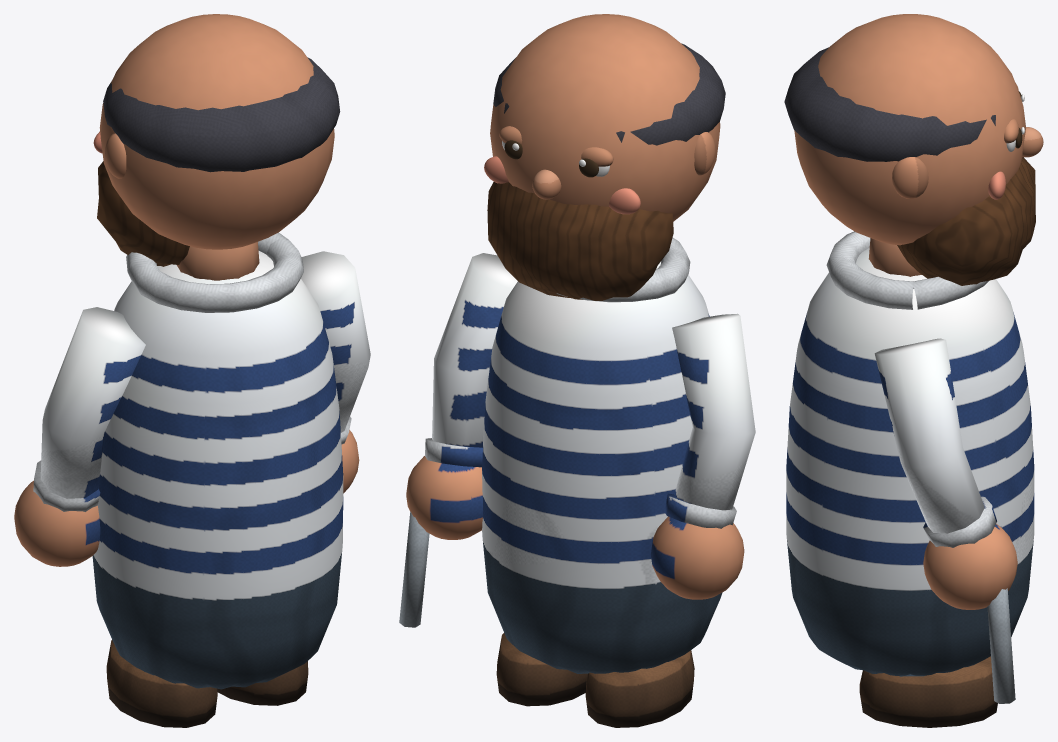
File: gosha.glb
3 renders of one model, left to right at view 1: azimuth 30°, elevation 25°; view 2: azimuth 150°, elevation 25°; view 3: azimuth 270°, elevation 25°, orthographic. The views are drawn at different scales.
Visible parts, largest first — view 1: Body, Head; view 2: Body, Head; view 3: Body, Head.
Boxes of the visible parts, x1,y1,x2,y2 form: Body: (14,232,370,727); Head: (93,14,340,266); Body: (399,237,755,727); Head: (484,14,725,300); Body: (786,231,1034,727); Head: (784,14,1043,285).
Bounding box in the file's own units: 0.88 × 1.7 × 0.603.
1 material, 1 textured.
